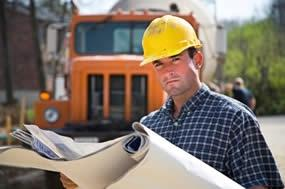helmet: (136, 15, 202, 67)
no_wear: (163, 97, 279, 189)
